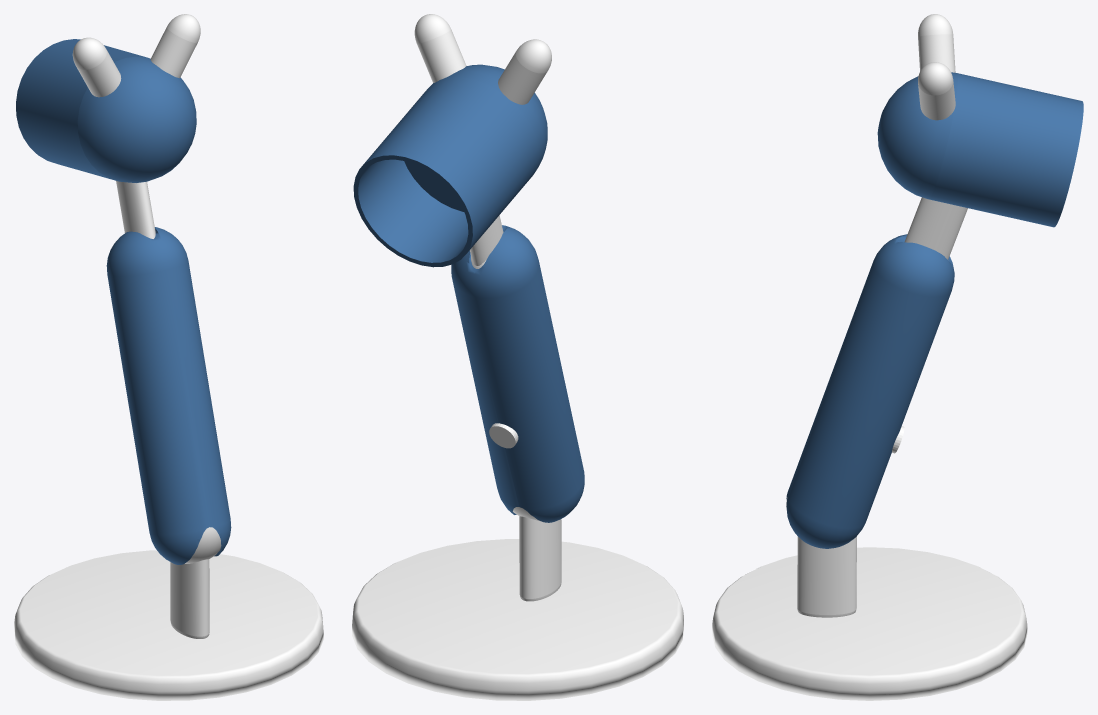
Rendered from lampada.obj.
The picture shows the model from 3 angles, left to right: view 1: azimuth 30°, elevation 25°; view 2: azimuth 150°, elevation 25°; view 3: azimuth 270°, elevation 25°; orthographic projection. The views are drawn at different scales.
Parts seen in each view (by area): view 1: base, body, Cylinder.001, Cylinder, Cylinder.004, Cylinder.003, Cylinder.002, Sphere; view 2: base, Cylinder.001, body, Cylinder, Cylinder.003, Cylinder.004, Cylinder.002, Cylinder.005; view 3: base, body, Cylinder.001, Cylinder, Cylinder.002, Cylinder.004, Cylinder.003.
Part boxes in pixels (x1,y1,x2,y2): base: [14, 550, 323, 700]; body: [106, 227, 231, 564]; Cylinder.001: [16, 39, 196, 182]; Cylinder: [170, 559, 209, 638]; Cylinder.004: [150, 14, 200, 78]; Cylinder.003: [72, 37, 121, 97]; Cylinder.002: [116, 181, 155, 238]; Sphere: [185, 527, 221, 563]; base: [352, 539, 683, 700]; Cylinder.001: [353, 64, 547, 267]; body: [451, 225, 584, 522]; Cylinder: [519, 516, 561, 601]; Cylinder.003: [498, 39, 551, 104]; Cylinder.004: [414, 14, 466, 82]; Cylinder.002: [470, 215, 503, 265]; Cylinder.005: [489, 423, 518, 448]; base: [712, 547, 1027, 700]; body: [786, 234, 954, 548]; Cylinder.001: [877, 72, 1083, 227]; Cylinder: [797, 536, 856, 617]; Cylinder.002: [904, 197, 967, 259]; Cylinder.004: [918, 62, 955, 120]; Cylinder.003: [918, 14, 955, 72].
Size of the model in its own units: 1.91 by 3.98 by 2.25.
Materials: 2 (2 with a texture image).
